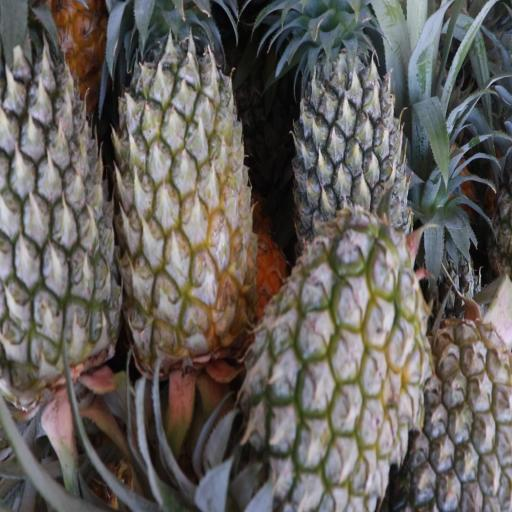------------------------------: (113, 0, 248, 367), (248, 228, 419, 511)
